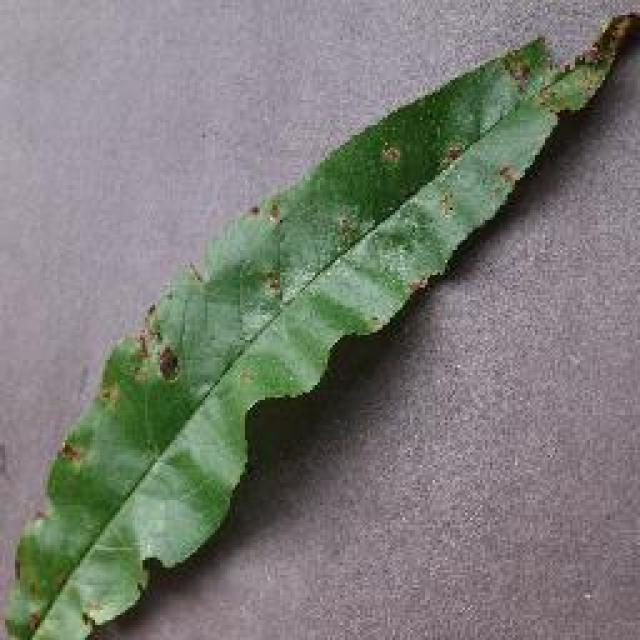Peach_Bacterial_Spot: (112, 198, 378, 382)
